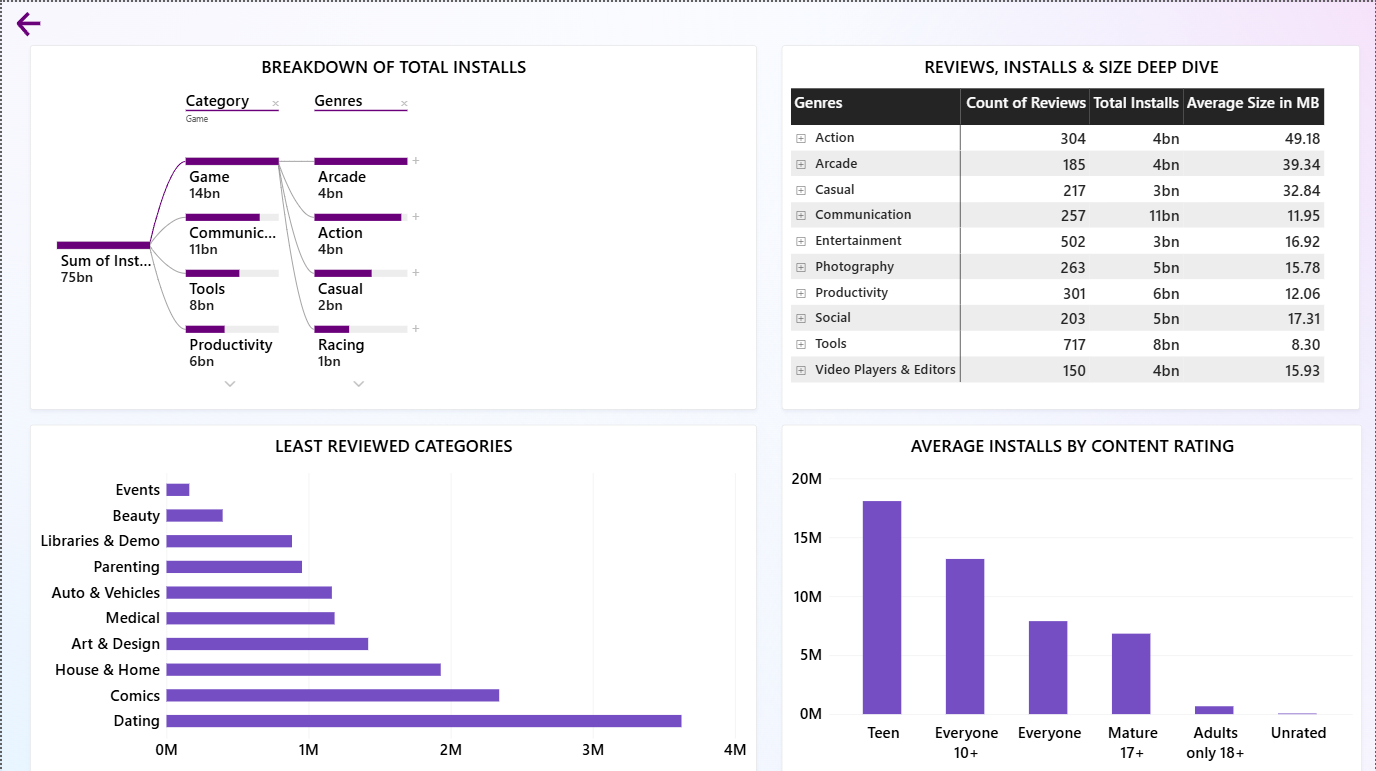

What the dashboard file says about the page in this screenshot:
{"tool":"powerbi","page":{"name":"Breakdown","canvas":[1920,1080],"ordinal":1},"visuals":[{"type":"decompositionTreeVisual","title":"BREAKDOWN OF TOTAL INSTALLS","fields":{"Analyze":["Sum(googleplaystore.Installs)"],"ExplainBy":["googleplaystore.Category","googleplaystore.Genres","googleplaystore.Sub-Genres"]},"box":[39.2,60.7,1016.2,509.1],"z":0},{"type":"pivotTable","title":"REVIEWS, INSTALLS & SIZE DEEP DIVE","fields":{"Rows":["googleplaystore.Genres","googleplaystore.Sub-Genres"],"Values":["CountNonNull(googleplaystore.Reviews)","Sum(googleplaystore.Installs)","Avg(googleplaystore.SizeMB)"]},"box":[1090.6,60.7,808.6,509.1],"z":1000},{"type":"clusteredColumnChart","title":"AVERAGE INSTALLS BY CONTENT RATING","fields":{"Category":["googleplaystore.Content Rating"],"Y":["Avg(googleplaystore.Installs)"]},"box":[1090.2,591.5,811.6,488.1],"z":2000},{"type":"clusteredBarChart","title":"LEAST REVIEWED CATEGORIES","fields":{"Category":["googleplaystore.Category"],"Y":["Sum(googleplaystore.Reviews)"]},"box":[39.2,591.3,1016.2,487.5],"z":3000},{"type":"actionButton","box":[0,0,76.9,61.5],"z":4000}]}

Visuals, with their boxes in screenshot pixels (x1, y1, x2, y2), scaled from the page's 1920x1080 canvas onto the 1376x771 screenshot:
"BREAKDOWN OF TOTAL INSTALLS" decompositionTreeVisual: region(28, 43, 756, 407)
"REVIEWS, INSTALLS & SIZE DEEP DIVE" pivotTable: region(782, 43, 1361, 407)
"AVERAGE INSTALLS BY CONTENT RATING" clusteredColumnChart: region(781, 422, 1363, 770)
"LEAST REVIEWED CATEGORIES" clusteredBarChart: region(28, 422, 756, 770)
actionButton: region(0, 0, 55, 44)
